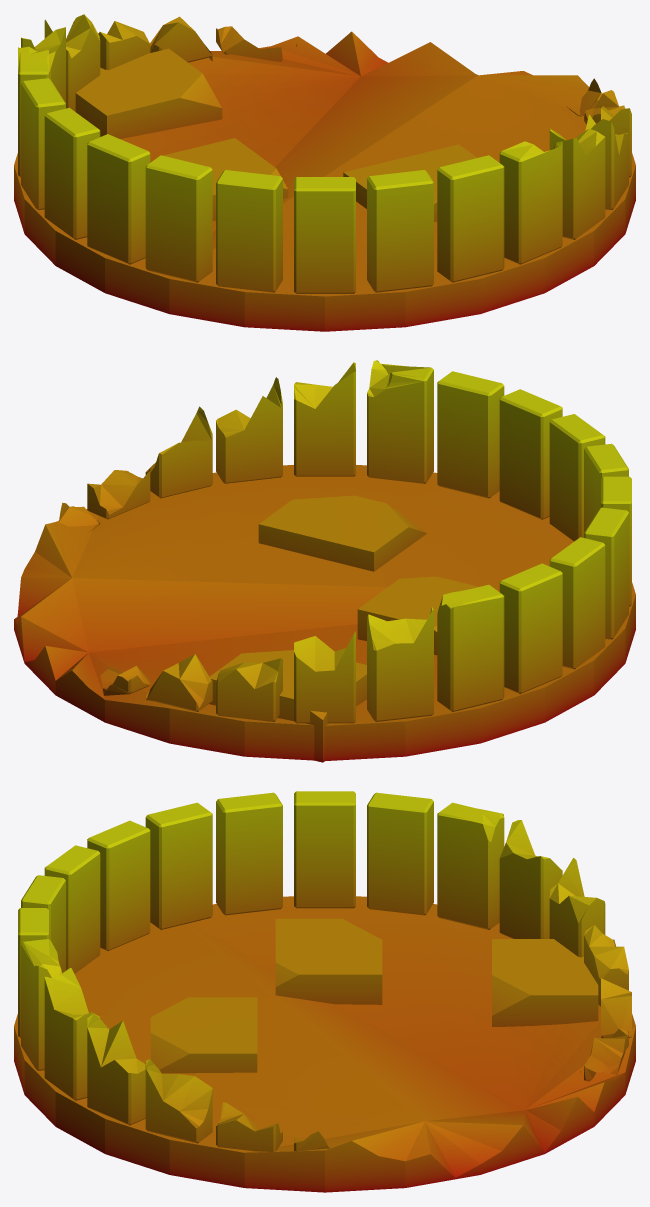
Rendered from tower_crown_broken.glb.
3 views of the same model, one above another, from view 1: azimuth 30°, elevation 25°; view 2: azimuth 150°, elevation 25°; view 3: azimuth 270°, elevation 25° (orthographic).
Visible parts, largest first — view 1: tower_crown_broken; view 2: tower_crown_broken; view 3: tower_crown_broken.
Part boxes in pixels (x1,y1,x2,y2): tower_crown_broken: [14, 14, 635, 331]; tower_crown_broken: [14, 360, 635, 762]; tower_crown_broken: [14, 791, 635, 1192].
Size of what is drawn, in the model's own units: 8 by 2 by 8.
